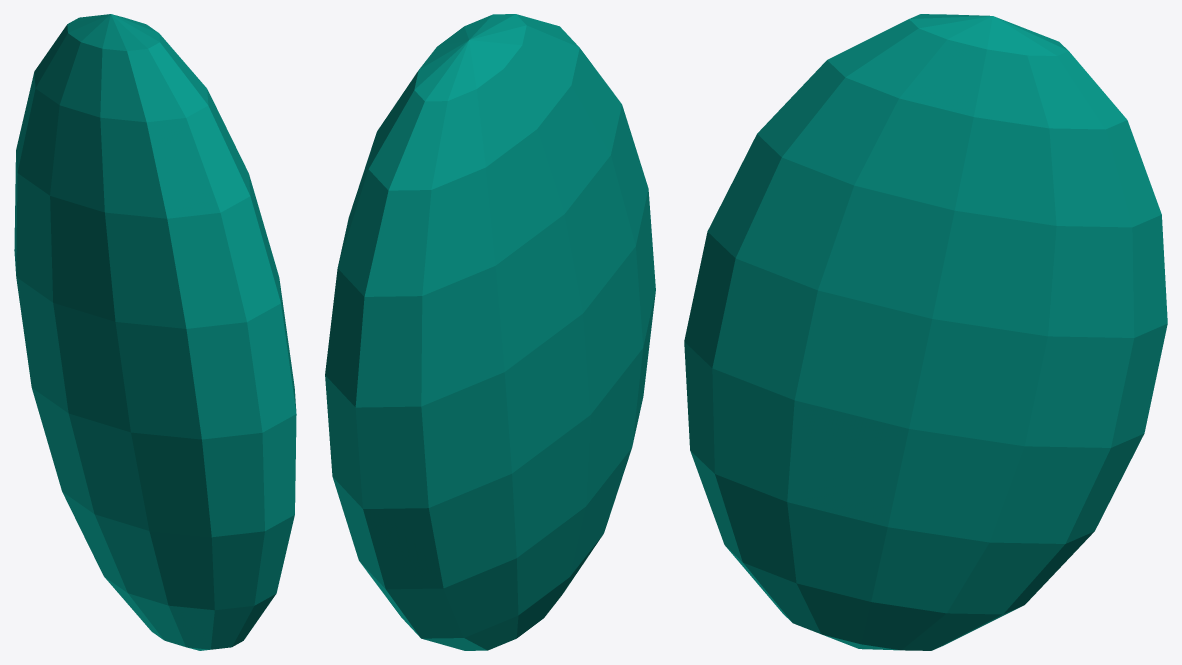
Rendered from n5_n5_group569271914_lev5.glb.
3 views of the same model, side by side, from view 1: azimuth 30°, elevation 25°; view 2: azimuth 150°, elevation 25°; view 3: azimuth 270°, elevation 25° (orthographic). The views are drawn at different scales.
Parts seen in each view (by area): view 1: n5_n5_group569271914_lev5; view 2: n5_n5_group569271914_lev5; view 3: n5_n5_group569271914_lev5.
Part boxes in pixels (left/top/right/bottom): n5_n5_group569271914_lev5: left=14, top=14, right=296, bottom=650; n5_n5_group569271914_lev5: left=325, top=14, right=655, bottom=650; n5_n5_group569271914_lev5: left=684, top=14, right=1167, bottom=650.
Size of the model in its own units: 1.59 by 4.79 by 3.39.
